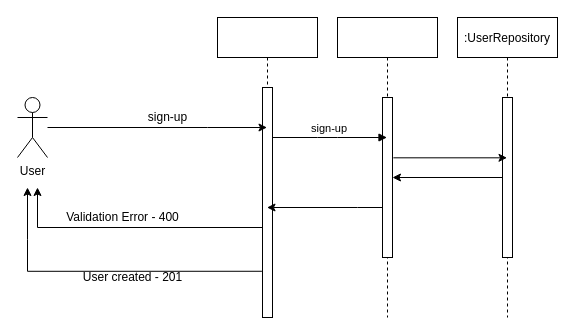
Some shapes in this 575 by 335 pixel diagram are drawn without their labels. Here are the shapes that lost their labels. From the top down, the box of each, then its label:
(216, 16, 318, 318): :UserController
(336, 16, 438, 318): :UserService
